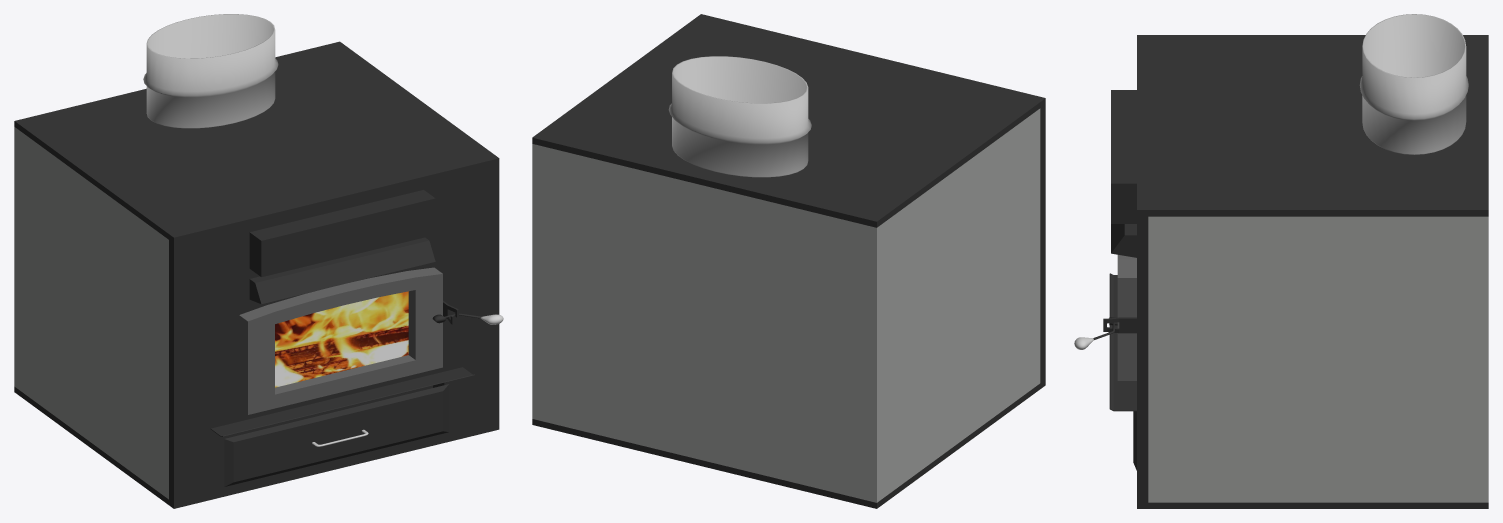
Rendered from sh-scopia-furnace.glb.
The picture shows the model from 3 angles, left to right: view 1: azimuth 30°, elevation 25°; view 2: azimuth 150°, elevation 25°; view 3: azimuth 270°, elevation 25°; orthographic projection. The views are drawn at different scales.
Visible parts, largest first — view 1: Cube.007, Cube, Cube.004, Cylinder.002; view 2: Cube, Cube.007, Cylinder.002; view 3: Cube, Cube.007, Cylinder.002, Cube.004.
Boxes of the visible parts, <box> form: Cube.007: <box>14,41,499,508</box>; Cube: <box>14,127,168,499</box>; Cube.004: <box>239,267,442,414</box>; Cylinder.002: <box>143,14,278,128</box>; Cube: <box>532,108,1040,502</box>; Cube.007: <box>532,14,1045,508</box>; Cylinder.002: <box>668,56,811,177</box>; Cube: <box>1148,216,1488,502</box>; Cube.007: <box>1093,35,1488,508</box>; Cylinder.002: <box>1359,14,1468,154</box>; Cube.004: <box>1117,255,1136,380</box>.
Size of the model in its own units: 1 by 1 by 1.
6 materials, 1 textured.
